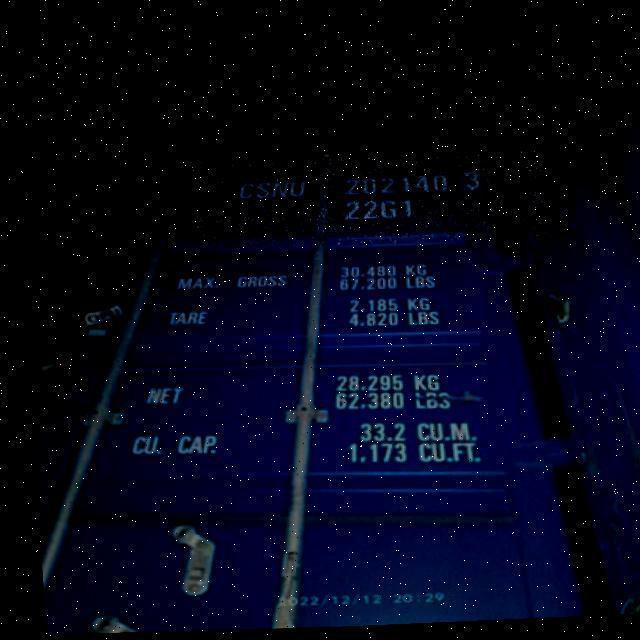container_number_h: (187, 149, 545, 256)
